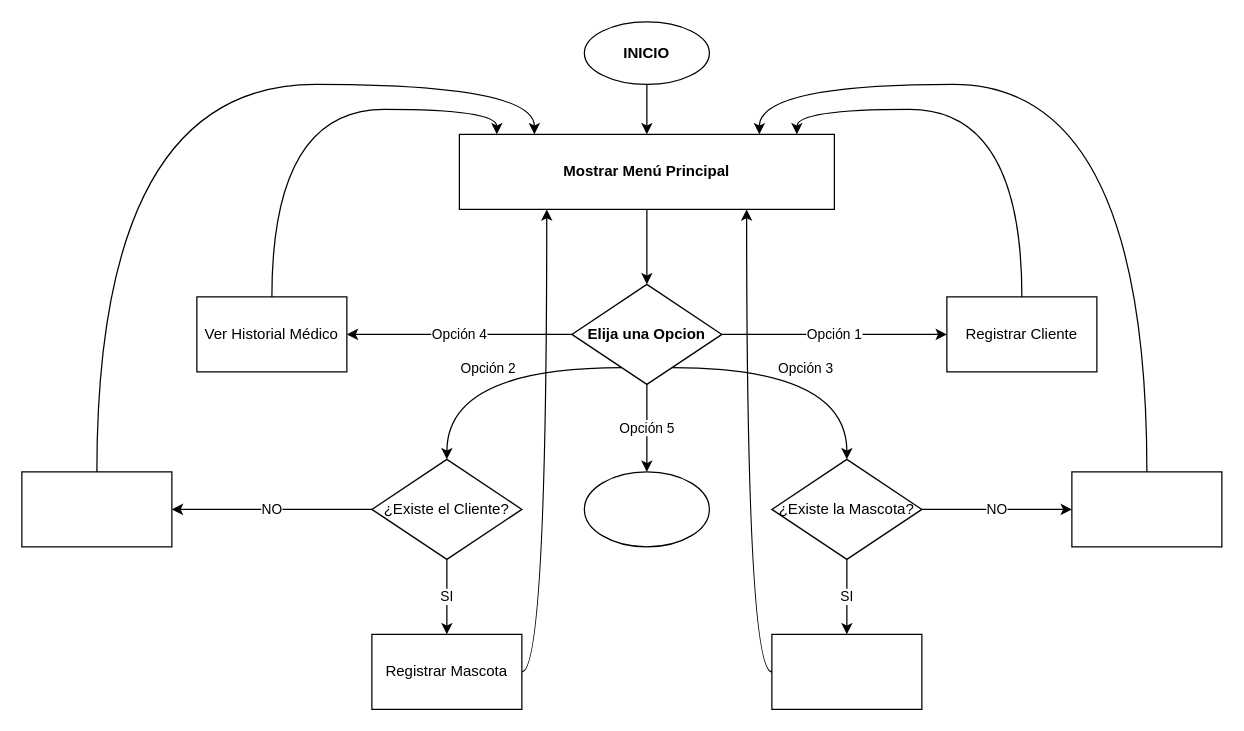
Some shapes in this 1244 by 731 pixel diagram are drawn without their labels. Each missing label, with the box of its shape:
Alerta: Debe registrar dueño primero: (21, 471, 172, 547)
Alerta: Registre mascota primero: (1071, 471, 1222, 547)
FIN: (583, 471, 709, 547)
Registrar Consulta Médica: (771, 633, 922, 709)
